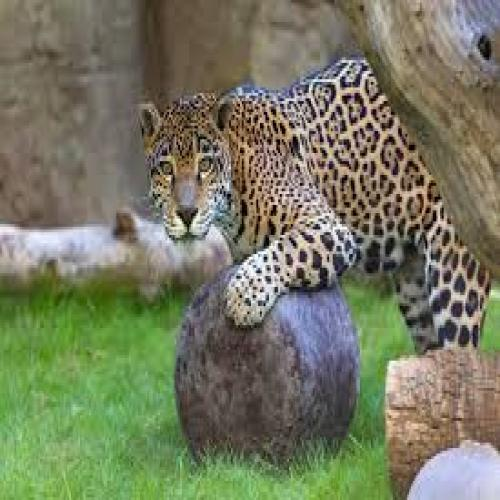jaguar_not-endangered: (137, 61, 488, 353)
